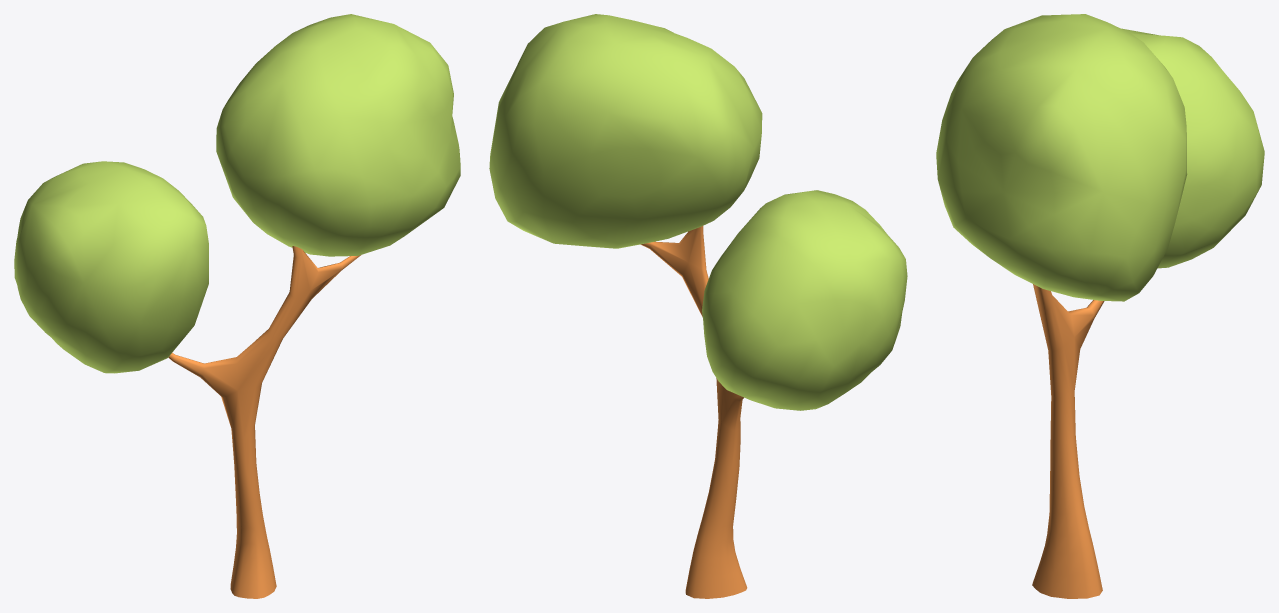
The model's file is BigTree_D.fbx.
3 views of the same model, side by side, from view 1: azimuth 30°, elevation 25°; view 2: azimuth 150°, elevation 25°; view 3: azimuth 270°, elevation 25° (orthographic). The views are drawn at different scales.
Parts seen in each view (by area): view 1: Oak_Tree_l_05; view 2: Oak_Tree_l_05; view 3: Oak_Tree_l_05.
Boxes of the visible parts, left/top/right/bottom form: Oak_Tree_l_05: left=14, top=14, right=460, bottom=598; Oak_Tree_l_05: left=489, top=14, right=907, bottom=598; Oak_Tree_l_05: left=936, top=14, right=1264, bottom=598.
Size of the model in its own units: 869 by 1083 by 529.
